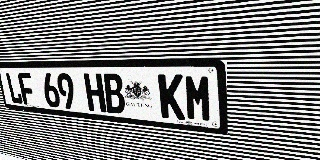6: (41, 73, 61, 108)
9: (56, 73, 77, 110)
B: (102, 73, 126, 114)
F: (17, 73, 36, 106)
H: (83, 73, 106, 112)
K: (158, 74, 185, 120)
L: (5, 72, 23, 104)
M: (184, 74, 213, 123)
